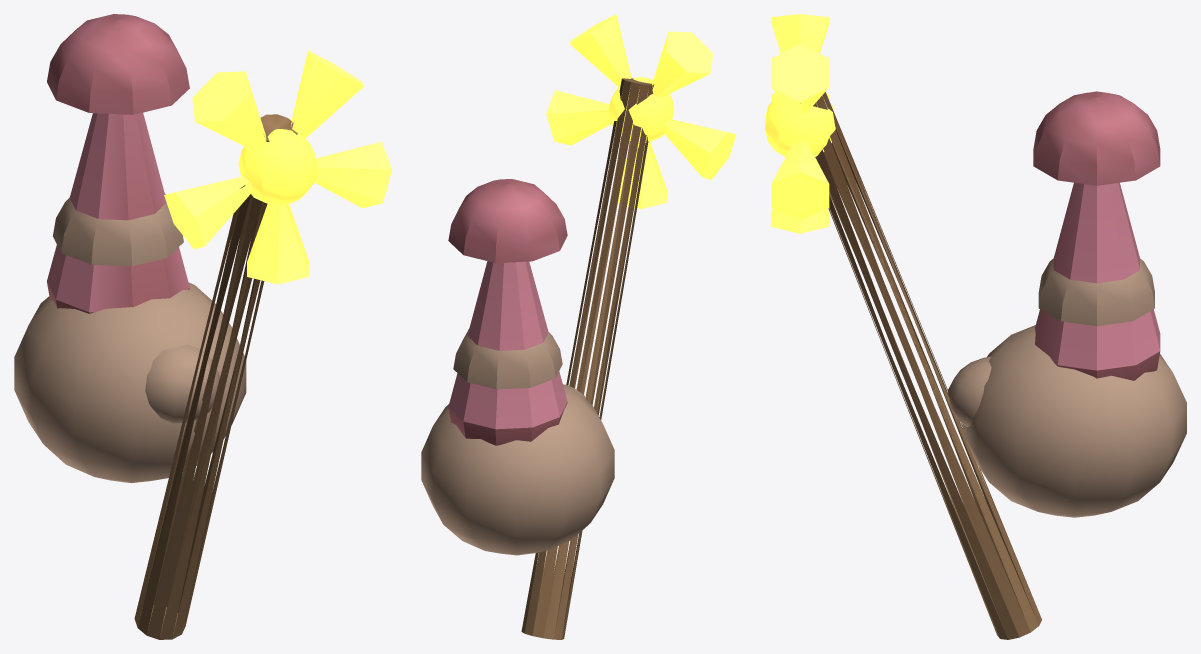
Rendered from girl-wizard-balloon-wand-armR.glb.
3 views of the same model, side by side, from view 1: azimuth 30°, elevation 25°; view 2: azimuth 150°, elevation 25°; view 3: azimuth 270°, elevation 25° (orthographic). The views are drawn at different scales.
Visible parts, largest first — view 1: player_girl-wizard-balloon-wand:armR; view 2: player_girl-wizard-balloon-wand:armR; view 3: player_girl-wizard-balloon-wand:armR.
Part boxes in pixels (left/top/right/bottom): player_girl-wizard-balloon-wand:armR: left=14, top=14, right=392, bottom=639; player_girl-wizard-balloon-wand:armR: left=421, top=14, right=736, bottom=639; player_girl-wizard-balloon-wand:armR: left=765, top=14, right=1186, bottom=639.
Size of the model in its own units: 0.1195 by 0.3609 by 0.2276.
